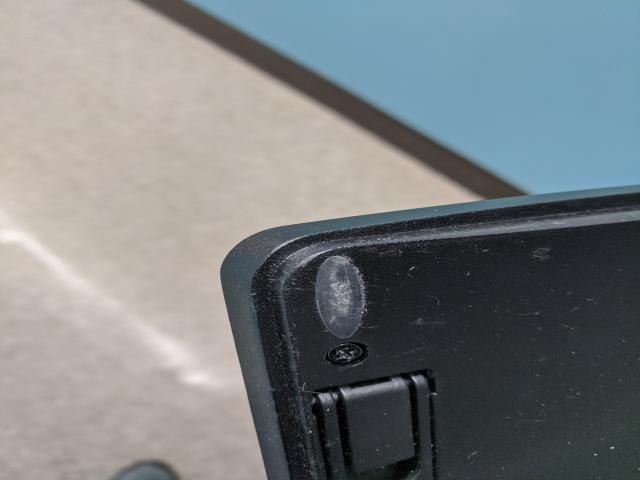CRS: (326, 342, 365, 365)
